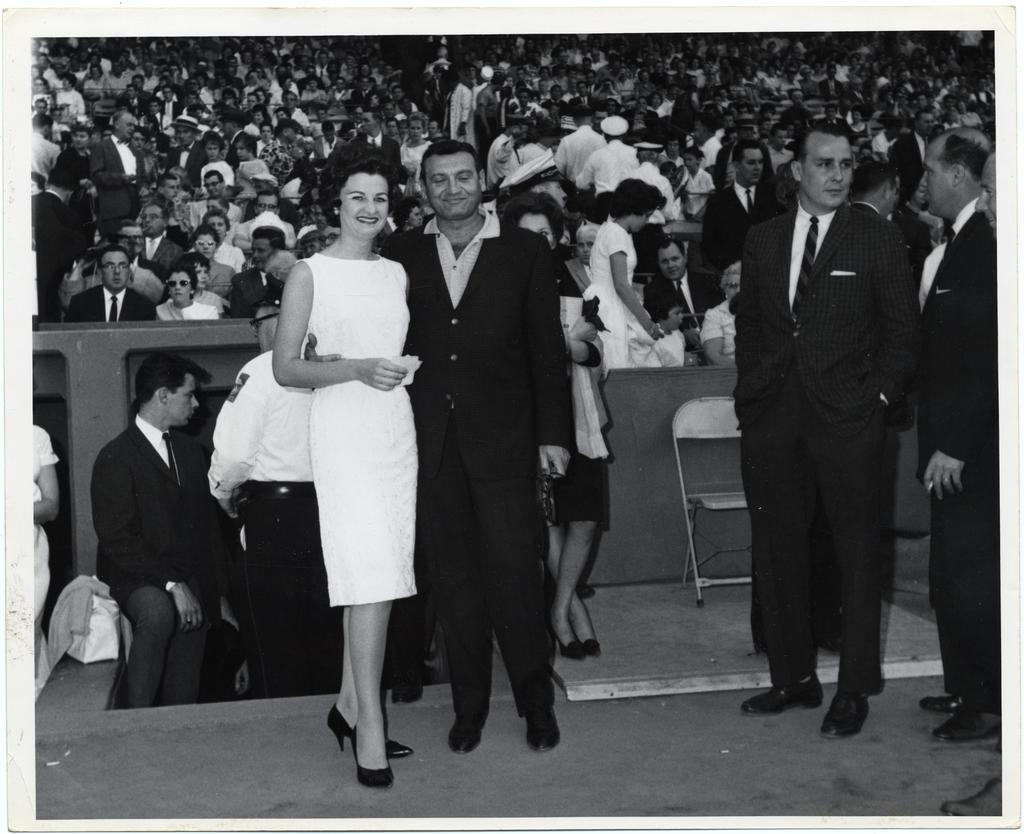Footwear: (338, 696, 414, 764), (934, 702, 1021, 744), (746, 676, 822, 710), (828, 680, 872, 738), (515, 701, 568, 749), (435, 708, 490, 749), (356, 733, 394, 788), (557, 623, 584, 662), (916, 688, 959, 710), (573, 625, 596, 658)
